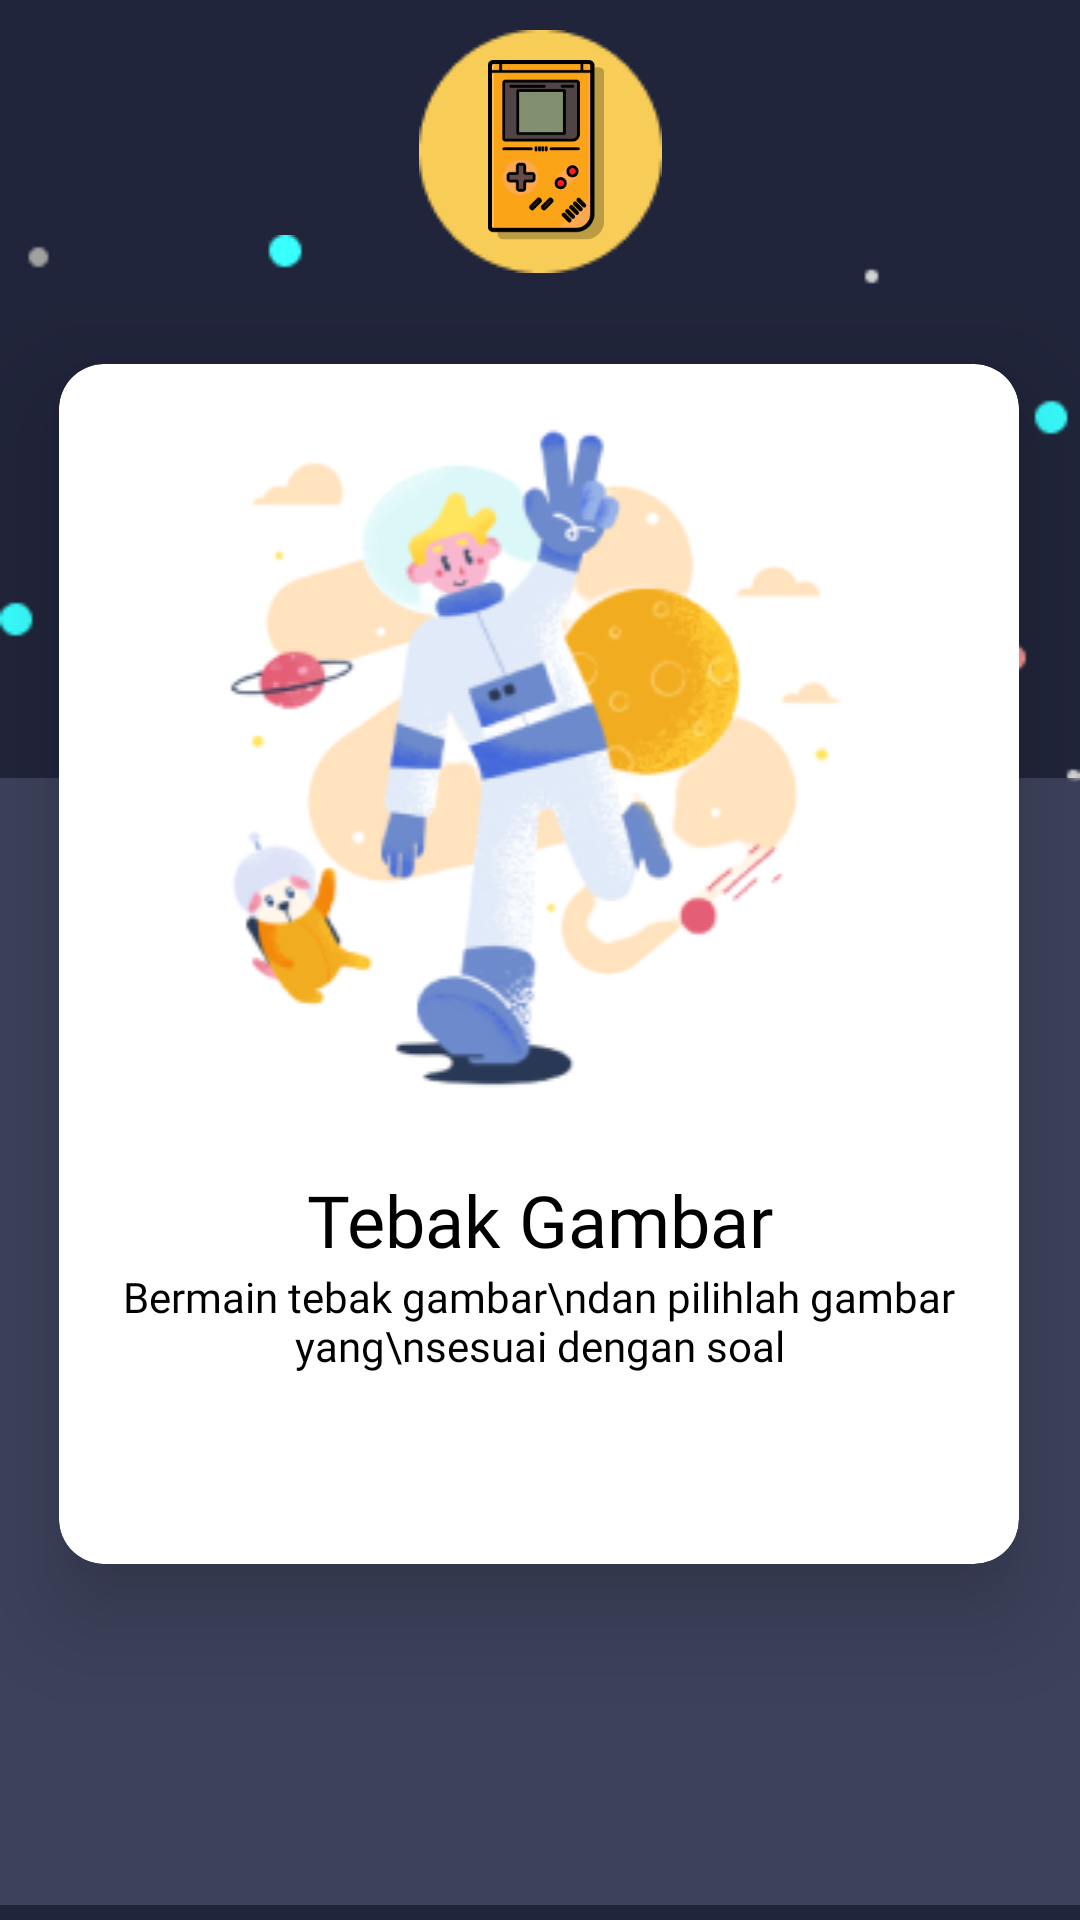

Screen size 1080 x 1920. Icon name, then its box in pixels as (x1, y1, x2, y2):
gamekotak: (488, 60, 604, 239)
